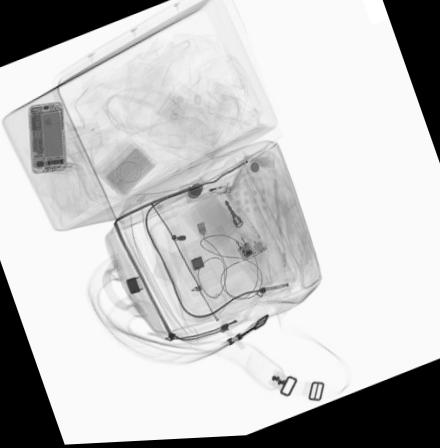Lighter: (185, 183, 230, 206)
